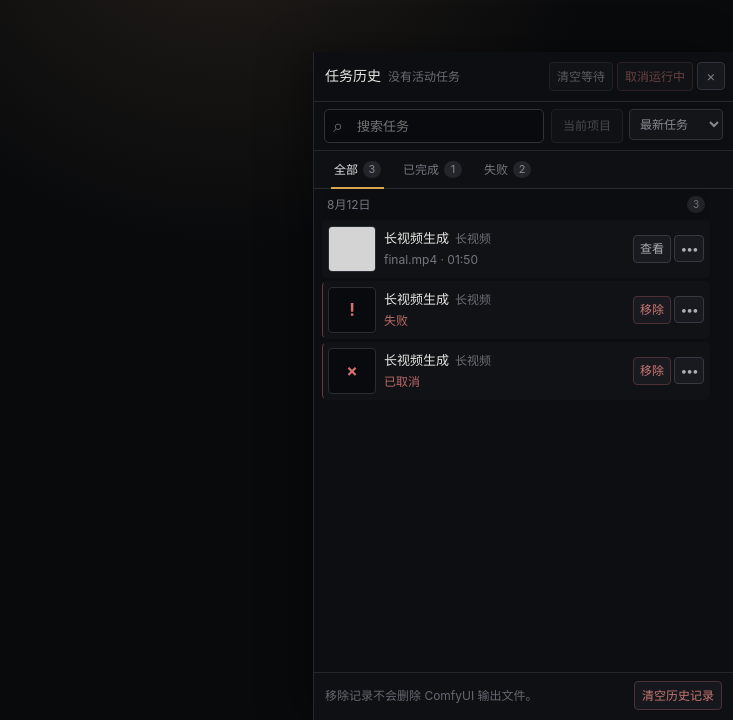
Test case: ComfyUI 风格的任务历史抽屉 › 失败页包含 failed 和 cancelled，且搜索采用短延迟过滤
Click the tab "失败 2".
click(508, 170)  # box 474,151 -> 541,188
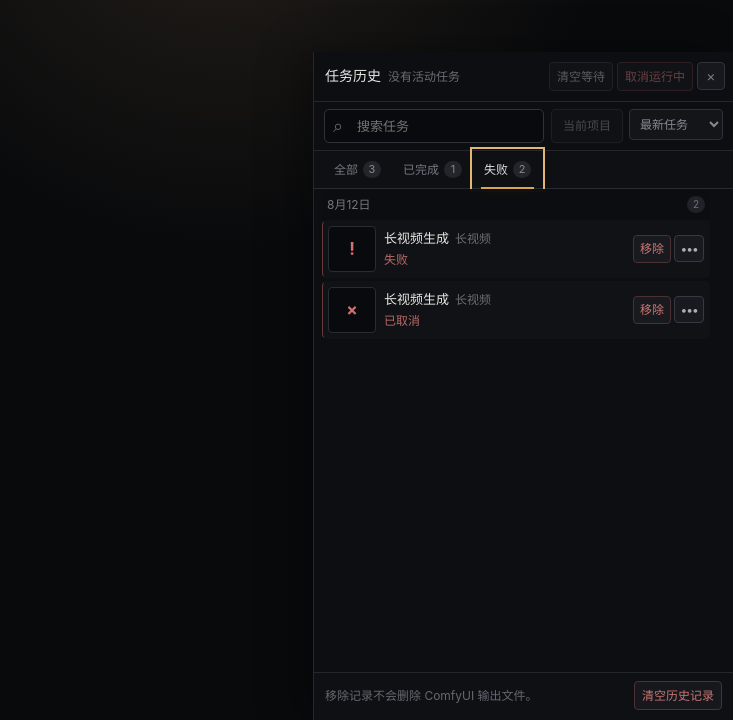
Expected: the text "已取消" is shown, 384,313 -> 420,328
Expected: the number of elements with class "task-row" is 2, 322,220 -> 710,278; 322,281 -> 710,339
Expected: the button "查看" is gone
Click the tab "全部 3".
click(358, 170)  # box 324,151 -> 391,188
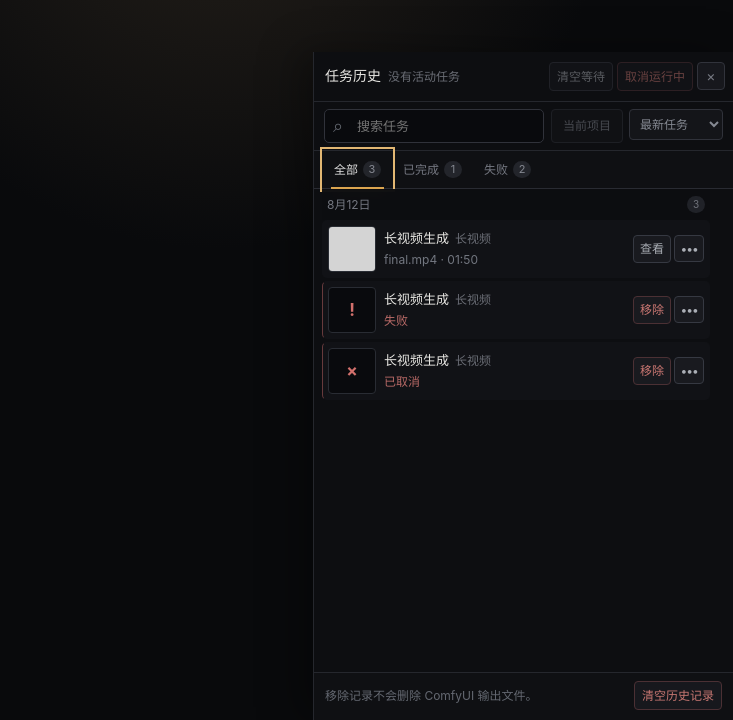
Type "cancelled-0001" into the search field named "搜索任务".
click(434, 126); type("cancelled-0001")  # box 353,111 -> 514,141
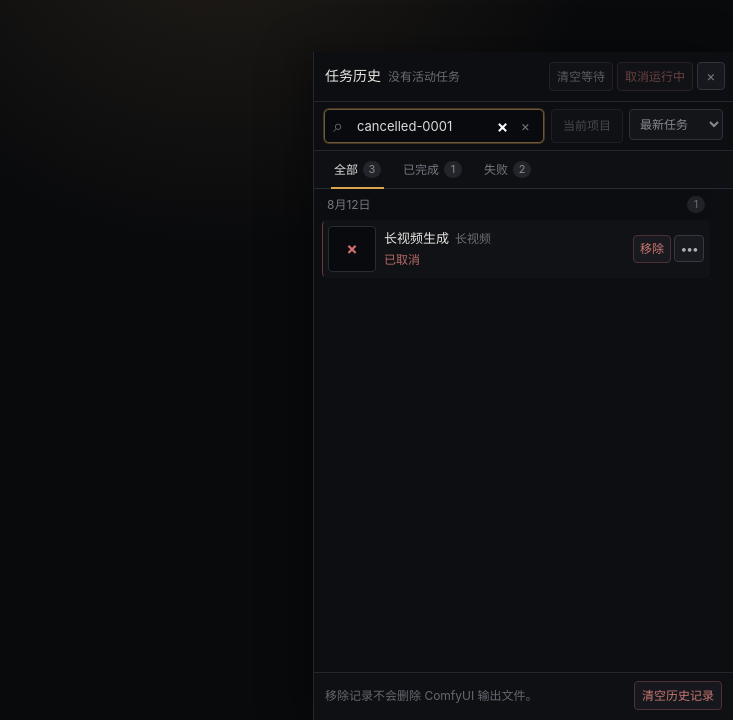
Expected: the text "已取消" is shown, 384,252 -> 420,267
Expected: the number of elements with class "task-row" is 1, 322,220 -> 710,278
